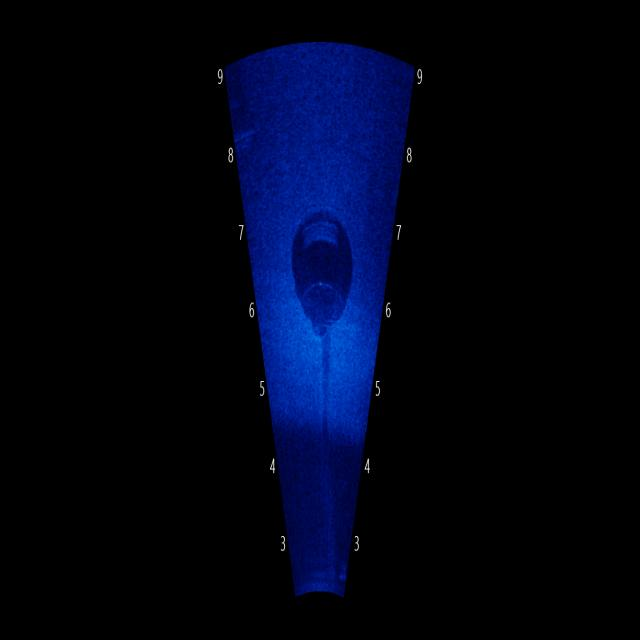circle: (287, 188, 357, 348)
